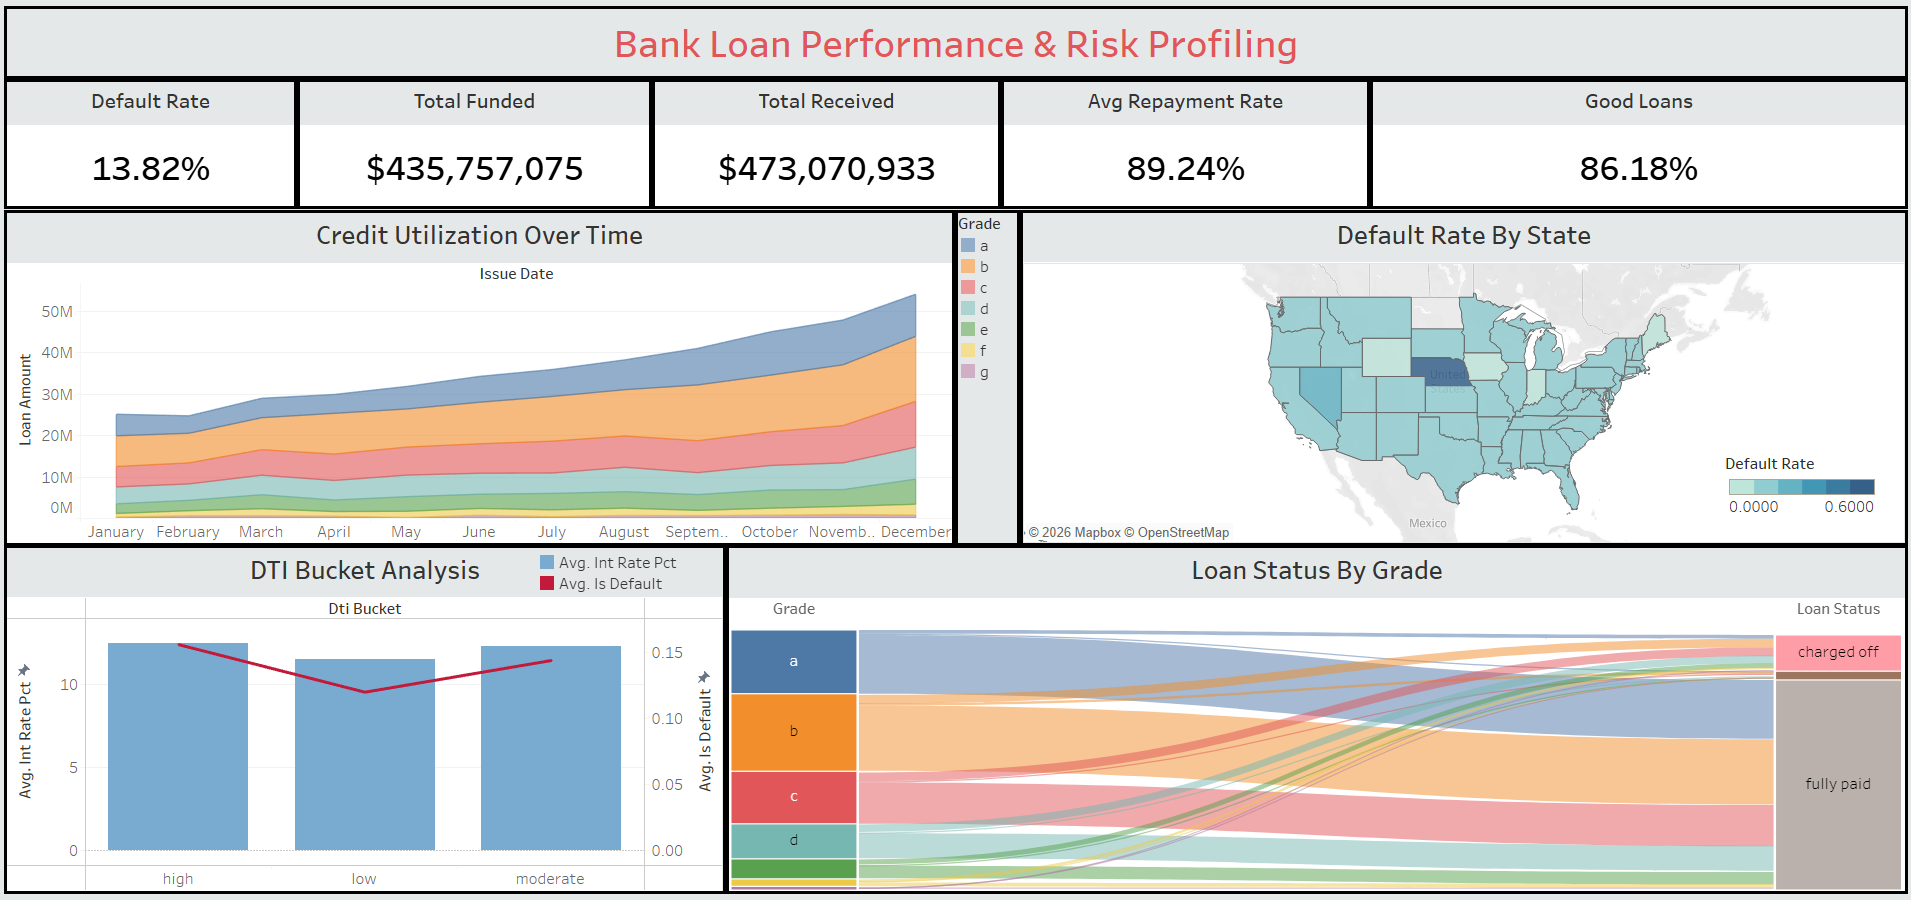

The page's visual inventory and layout, read from the dashboard file:
{"tool":"tableau","page":{"name":"Dashboard 1","canvas":[1000,1000],"units":"permille","ordinal":0},"visuals":[{"type":"text","box":[4.8,10,990.3,80.7]},{"type":"worksheet","title":"Sheet 6","mark":"Automatic","box":[4.8,90.7,176.8,144]},{"type":"worksheet","title":"Sheet 7","mark":"Automatic","box":[181.7,90.7,214.2,144]},{"type":"worksheet","title":"Sheet 8","mark":"Automatic","box":[395.9,90.7,210.6,144]},{"type":"worksheet","title":"Sheet 9","mark":"Automatic","box":[606.5,90.7,222.7,144]},{"type":"worksheet","title":"Sheet 10","mark":"Automatic","box":[829.2,90.7,166,144]},{"type":"worksheet","title":"Sheet 11","mark":"Area","rows":["loan_amount"],"cols":["issue_date"],"box":[4.8,234.7,494.8,370.7]},{"type":"legend","title":"Sheet 11","param":"[federated.00wvm0t1hx3l940zski1n1hu6yl8].[none:grade:nk]","box":[499.7,234.7,33.8,370.7]},{"type":"worksheet","title":"Sheet 2","mark":"Multipolygon","box":[533.5,234.7,461.7,370.7]},{"type":"legend","title":"Sheet 2","param":"[federated.00wvm0t1hx3l940zski1n1hu6yl8].[usr:Calculation_2630383664060391424:qk","box":[900.4,503.1,80.3,88.6]},{"type":"legend","title":"Sheet 3","param":"[federated.00wvm0t1hx3l940zski1n1hu6yl8].[:Measure Names]","box":[281.8,588,97.2,79.9]},{"type":"worksheet","title":"Sheet 3","mark":"Bar","rows":["int_rate_pct","is_default"],"cols":["dti_bucket"],"box":[4.8,605.4,375.3,384.6]},{"type":"worksheet","title":"Sheet 12","box":[380.2,605.4,615,384.6]}]}

Visuals, with their boxes on the dashboard's canvas, which has no fixed pixel size, in thousandths of its width and height (x1, y1, x2, y2). These are canvas units, not pixel positions in the 1911x900 screenshot, which may show the page scaled, cropped or inside an application window:
text: [x1=5, y1=10, x2=995, y2=91]
"Sheet 6" worksheet: [x1=5, y1=91, x2=182, y2=235]
"Sheet 7" worksheet: [x1=182, y1=91, x2=396, y2=235]
"Sheet 8" worksheet: [x1=396, y1=91, x2=606, y2=235]
"Sheet 9" worksheet: [x1=606, y1=91, x2=829, y2=235]
"Sheet 10" worksheet: [x1=829, y1=91, x2=995, y2=235]
"Sheet 11" worksheet (Area marks): [x1=5, y1=235, x2=500, y2=605]
"Sheet 11" legend: [x1=500, y1=235, x2=534, y2=605]
"Sheet 2" worksheet (Multipolygon marks): [x1=534, y1=235, x2=995, y2=605]
"Sheet 2" legend: [x1=900, y1=503, x2=981, y2=592]
"Sheet 3" legend: [x1=282, y1=588, x2=379, y2=668]
"Sheet 3" worksheet (Bar marks): [x1=5, y1=605, x2=380, y2=990]
"Sheet 12" worksheet: [x1=380, y1=605, x2=995, y2=990]
